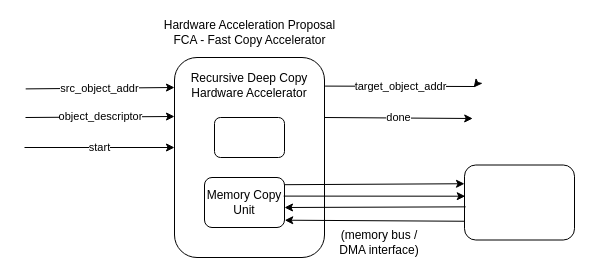
Some shapes in this 592 by 275 pixel diagram are drawn without their labels. Here are the shapes that lost their labels. From the top down, the centre of each, then its label:
the point at 249,137: Object Decoder
the point at 519,202: Memory
